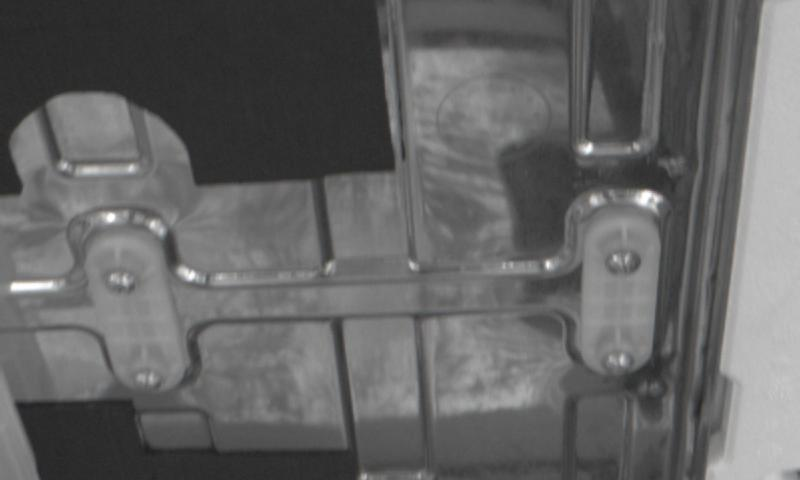vida-ok: (93, 266, 139, 310), (600, 240, 647, 283), (594, 342, 640, 381), (123, 360, 168, 399)
